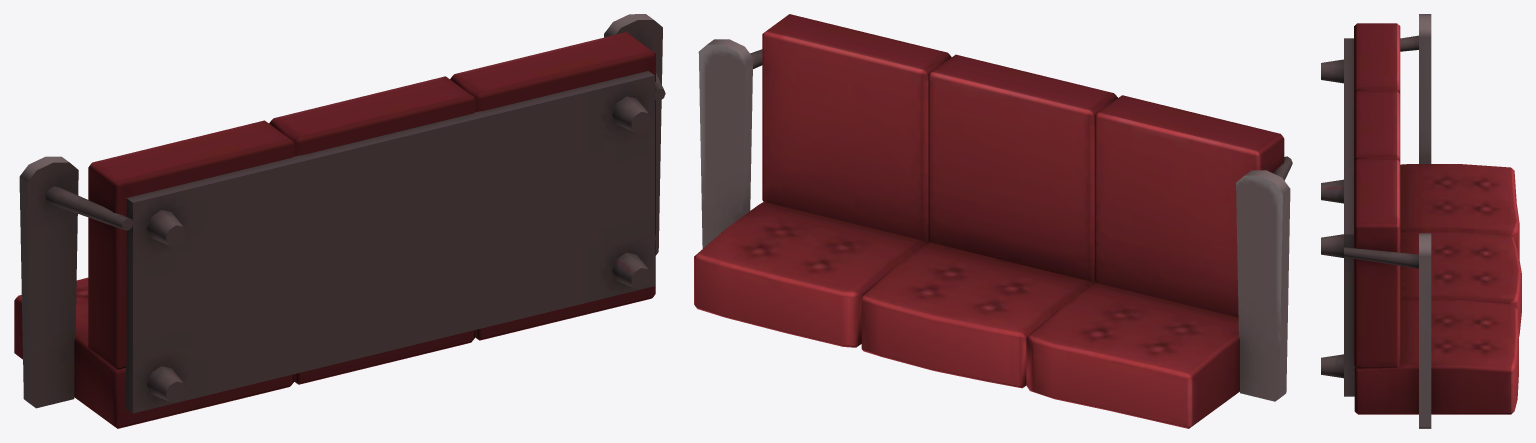
Rendered from RedCouch.fbx.
The picture shows the model from 3 angles, left to right: view 1: azimuth 30°, elevation 25°; view 2: azimuth 150°, elevation 25°; view 3: azimuth 270°, elevation 25°; orthographic projection. The views are drawn at different scales.
Visible parts, largest first — view 1: RedCouch; view 2: RedCouch; view 3: RedCouch.
Boxes of the visible parts, x1=… form: RedCouch: x1=14, y1=14, x2=665, y2=428; RedCouch: x1=694, y1=14, x2=1292, y2=428; RedCouch: x1=1321, y1=14, x2=1521, y2=428.
Bounding box in the file's own units: 175 × 65.13 × 62.09.
